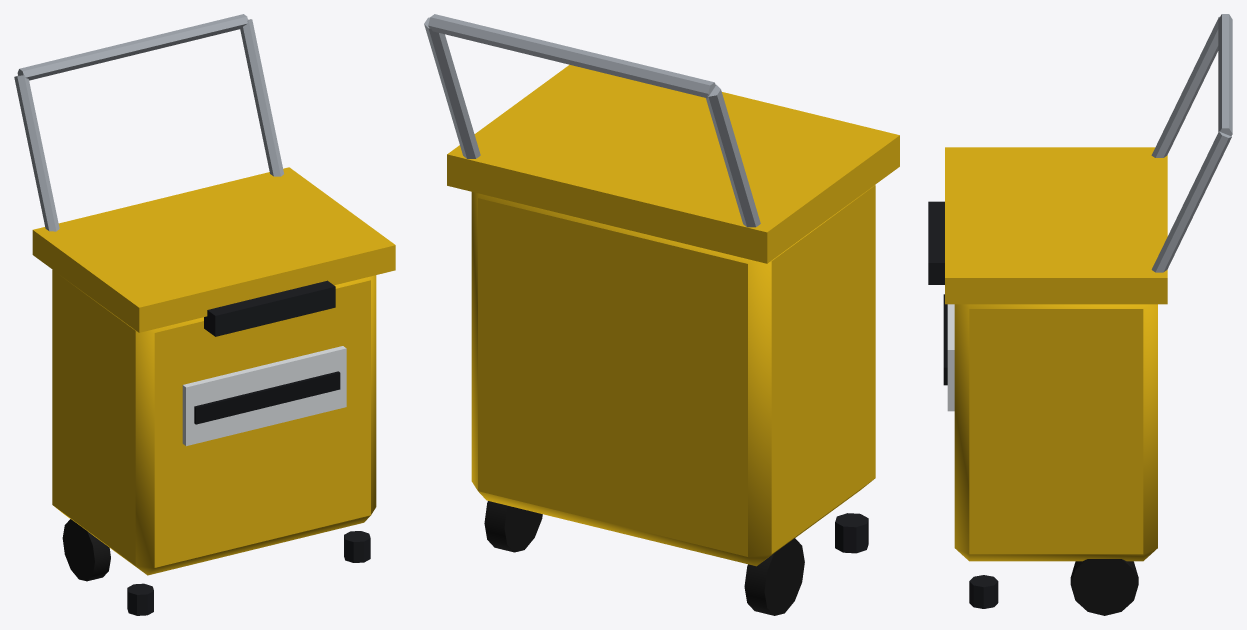
Rendered from safety_spill_kit_bin.glb.
3 renders of one model, left to right at view 1: azimuth 30°, elevation 25°; view 2: azimuth 150°, elevation 25°; view 3: azimuth 270°, elevation 25°, orthographic. The views are drawn at different scales.
Parts seen in each view (by area): view 1: safety_spill_kit_bin; view 2: safety_spill_kit_bin; view 3: safety_spill_kit_bin.
Boxes of the visible parts, bbox=[...] form: safety_spill_kit_bin: bbox=[14, 14, 395, 615]; safety_spill_kit_bin: bbox=[424, 14, 899, 615]; safety_spill_kit_bin: bbox=[928, 14, 1232, 615].
Size of the model in its own units: 0.64 by 1.11 by 0.63.
